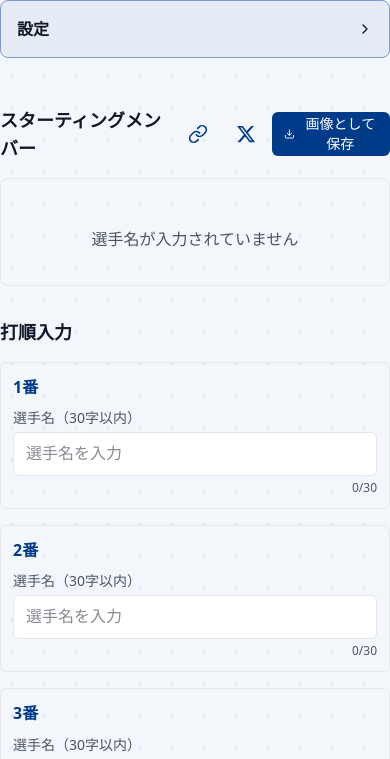
Test: LineupCustomCreator › メモ・理由スイッチをONにするとメモ欄が現れる
The image size is (390, 759).
Click the button "設定" at (33, 29), box [1,1,389,57]
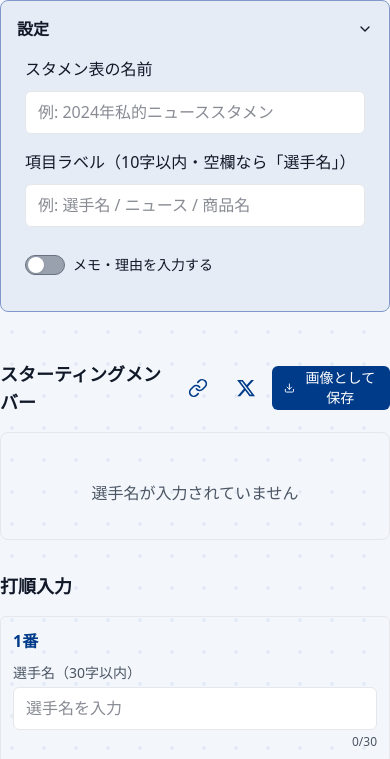
Click the checkbox labelled "メモ・理由を入力する" at (119, 265), box [25,255,213,275]
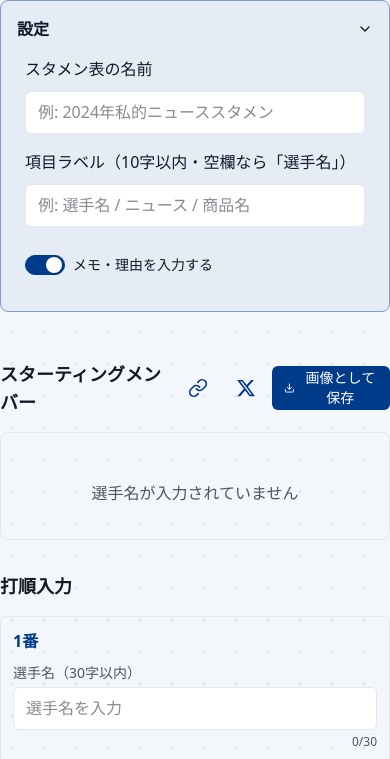
Check: the number of text boxes with placeholder "メモや起用理由など" is 9
